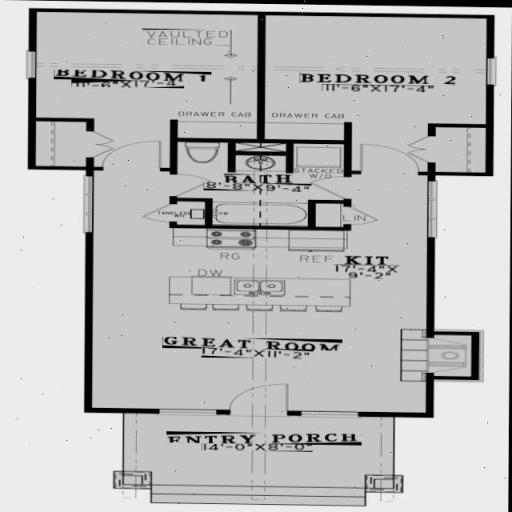bathroom: (92, 141, 393, 232)
bedroom: (276, 18, 512, 144), (34, 18, 270, 132)
hall: (112, 325, 467, 424)
kitchen: (116, 236, 390, 320)
porch: (116, 424, 442, 512)
